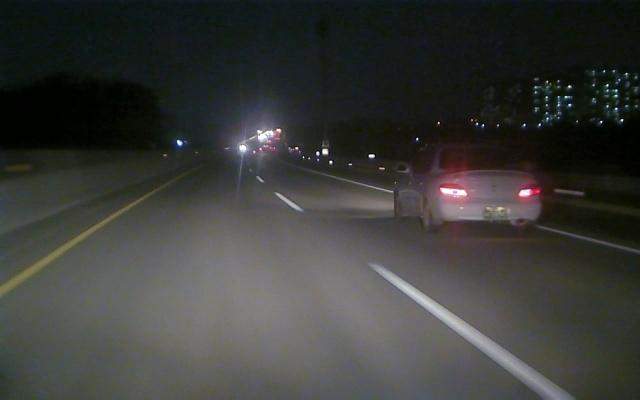lane: (256, 176, 577, 398), (337, 177, 638, 254), (2, 195, 147, 296)
